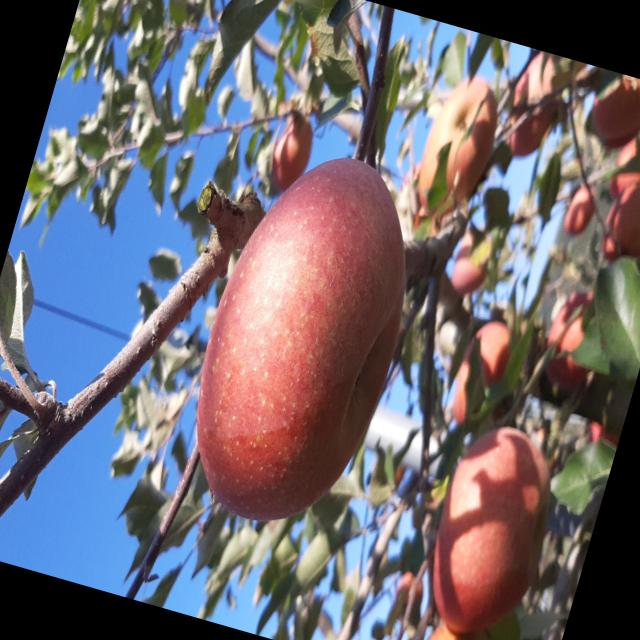fresh: (157, 122, 451, 557)
